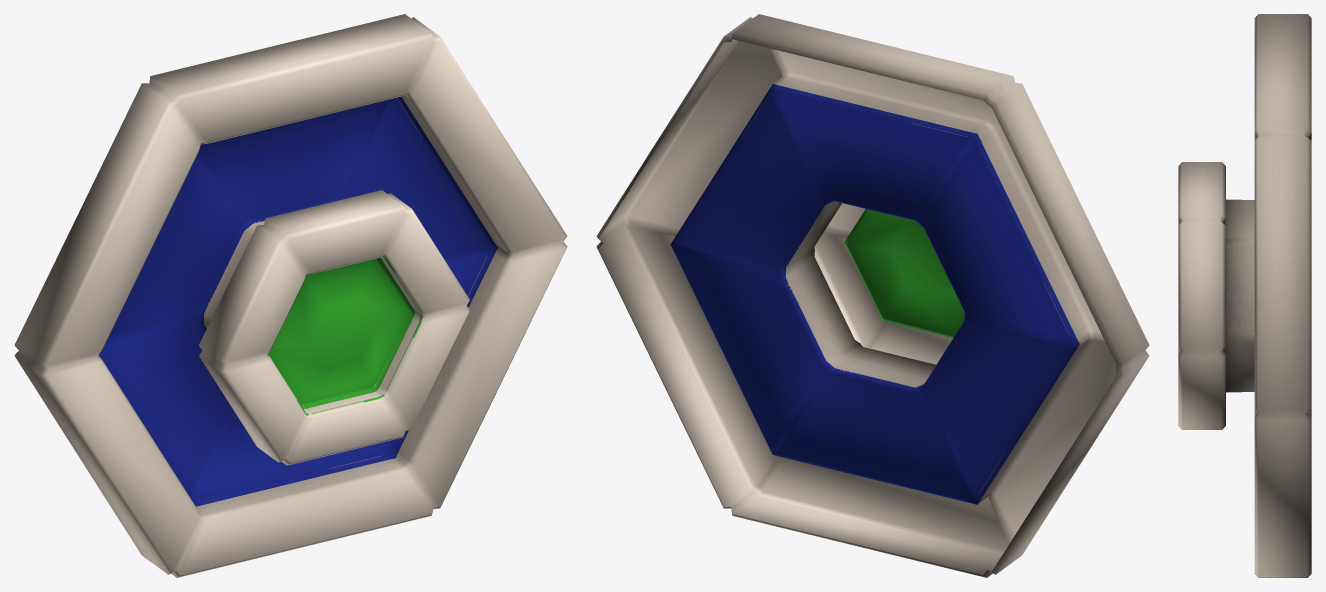
The model's file is Foutain.fbx.
3 views of the same model, side by side, from view 1: azimuth 30°, elevation 25°; view 2: azimuth 150°, elevation 25°; view 3: azimuth 270°, elevation 25° (orthographic). The views are drawn at different scales.
Parts seen in each view (by area): view 1: Fountain; view 2: Fountain; view 3: Fountain.
Part boxes in pixels (x1=…): Fountain: x1=14, y1=14, x2=567, y2=577; Fountain: x1=596, y1=14, x2=1149, y2=577; Fountain: x1=1178, y1=14, x2=1311, y2=577.
Size of the model in its own units: 59360 by 51962 by 14000.
